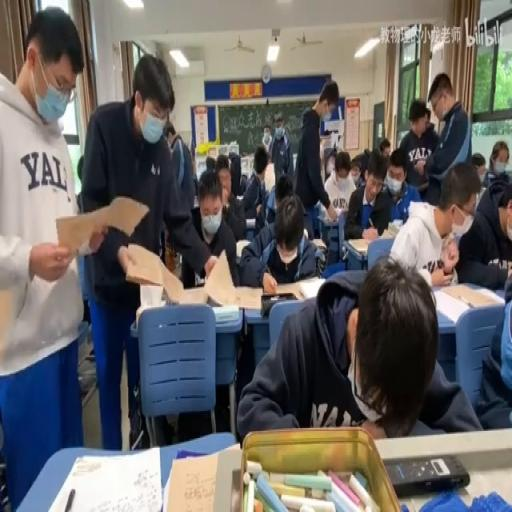calculator: (43, 445, 162, 509), (128, 245, 230, 310), (55, 194, 144, 253), (162, 449, 228, 512), (226, 276, 310, 310), (350, 236, 386, 255), (138, 283, 164, 309), (298, 273, 326, 297), (212, 304, 240, 324), (235, 238, 251, 256), (386, 219, 400, 235), (320, 215, 340, 226), (311, 238, 327, 248), (192, 194, 198, 208), (245, 218, 255, 226), (236, 192, 243, 202)
paper: (80, 48, 208, 456), (0, 3, 90, 512), (238, 259, 480, 438), (391, 161, 477, 286), (238, 189, 318, 289), (294, 78, 338, 235), (473, 266, 512, 426), (342, 148, 394, 240), (210, 154, 245, 244), (168, 120, 197, 208), (152, 54, 175, 131), (270, 112, 292, 180), (483, 141, 509, 189), (274, 172, 294, 206), (387, 145, 408, 175), (470, 152, 486, 185), (322, 142, 335, 182), (74, 162, 85, 209), (334, 151, 350, 176), (260, 125, 272, 158), (254, 151, 268, 176), (350, 152, 364, 174), (264, 162, 274, 189), (163, 121, 175, 141), (379, 140, 390, 160), (238, 172, 248, 192), (189, 138, 195, 168), (318, 117, 326, 138), (206, 154, 216, 170), (274, 112, 283, 126), (425, 107, 431, 125), (330, 138, 336, 154), (228, 149, 234, 158)
person: (386, 452, 470, 495)
